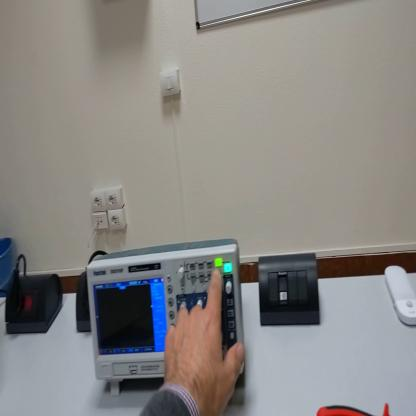hand: (164, 270, 247, 415)
oscilloscope: (85, 238, 244, 398)
pliers: (319, 403, 392, 415)
socket: (6, 276, 65, 336), (77, 271, 92, 334)
